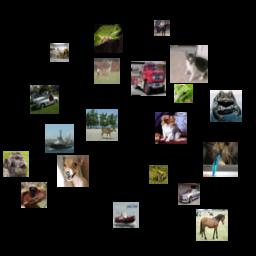automobile: (30, 85, 59, 114), (178, 183, 200, 205)
cat: (170, 45, 208, 83), (203, 142, 238, 177)
deer: (86, 109, 118, 141), (94, 58, 120, 84)
dog: (155, 112, 187, 144), (57, 155, 89, 187), (3, 151, 29, 177), (50, 43, 69, 62)
frog: (210, 90, 242, 122), (94, 24, 123, 53), (21, 182, 47, 208), (174, 84, 193, 103), (149, 165, 168, 184)
ship: (45, 124, 74, 153), (113, 202, 139, 228)
truck: (131, 61, 166, 96)
